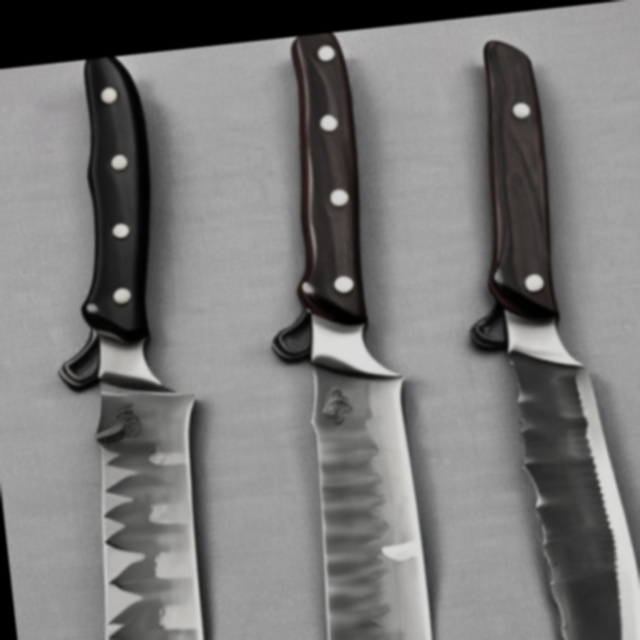Sharp-Object: (228, 28, 454, 640), (427, 26, 640, 640), (19, 51, 241, 640)
